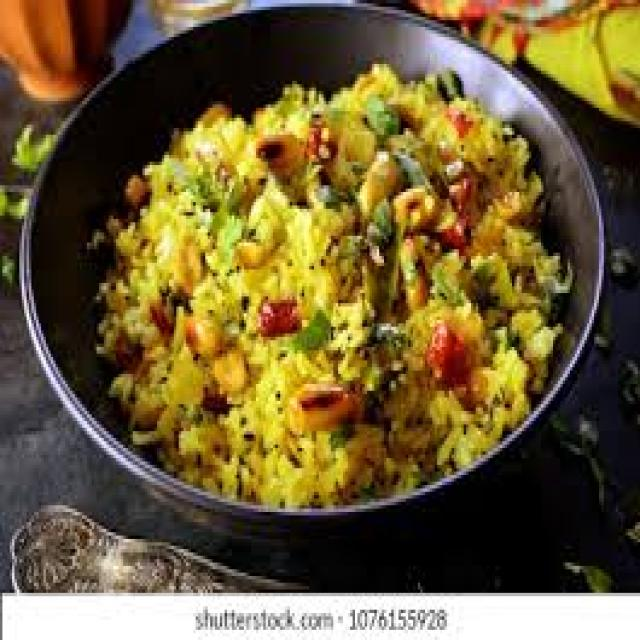POHA: (101, 76, 554, 487)
